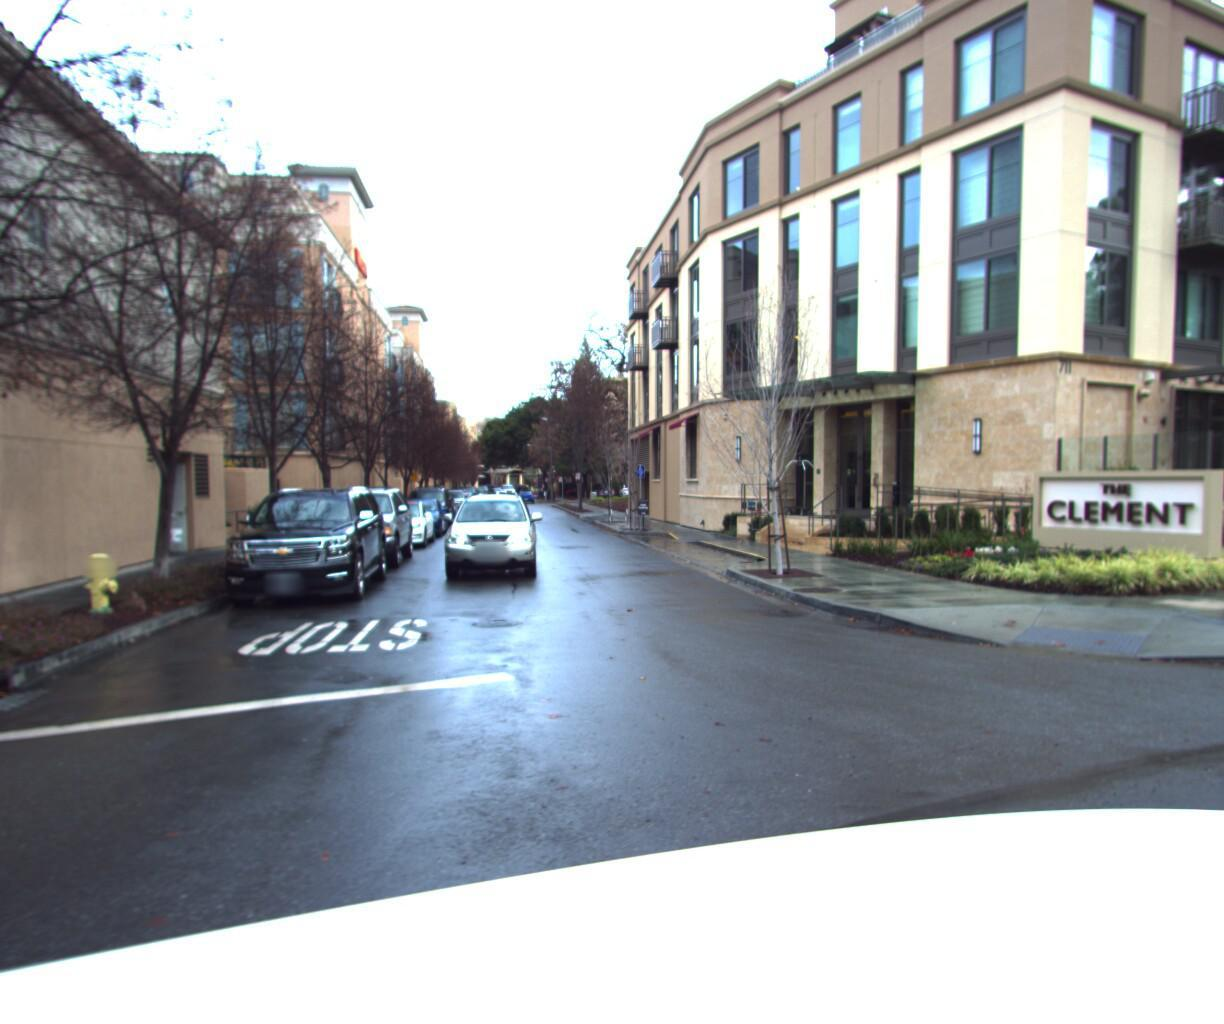car: (196, 486, 399, 620), (290, 487, 423, 580), (439, 493, 534, 589), (356, 502, 439, 558), (386, 499, 450, 543), (400, 490, 458, 537), (438, 492, 469, 521), (516, 491, 536, 508)
